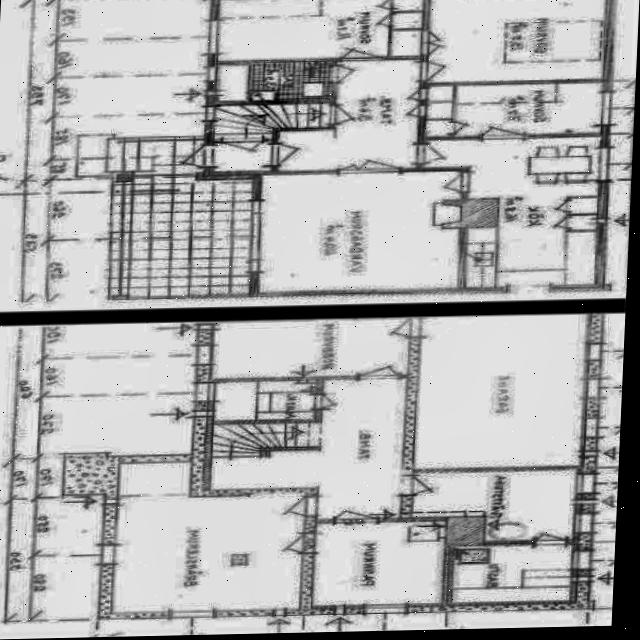room: (110, 458, 307, 625), (410, 314, 590, 469), (255, 171, 462, 292), (426, 0, 604, 82), (409, 469, 577, 543), (209, 318, 411, 379), (310, 521, 445, 606), (217, 0, 389, 60), (453, 83, 603, 136), (450, 545, 572, 603), (213, 381, 316, 420), (250, 62, 333, 101)
